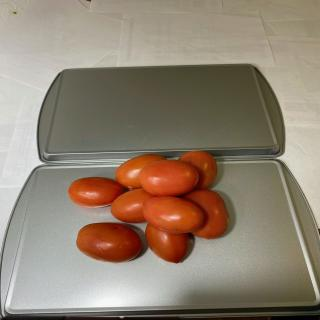Chilli: (68, 150, 230, 264)
Tomato: (76, 222, 142, 264), (182, 190, 230, 240), (142, 196, 204, 233), (139, 160, 199, 196), (115, 153, 167, 190), (68, 176, 124, 208), (145, 224, 189, 264), (110, 188, 156, 223), (178, 150, 218, 190)
